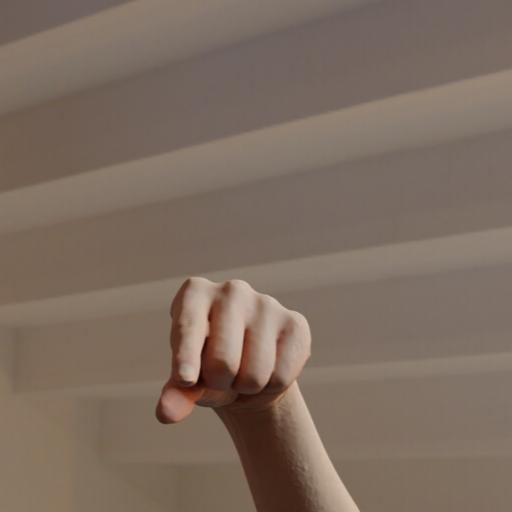Q: (127, 214, 403, 496)
